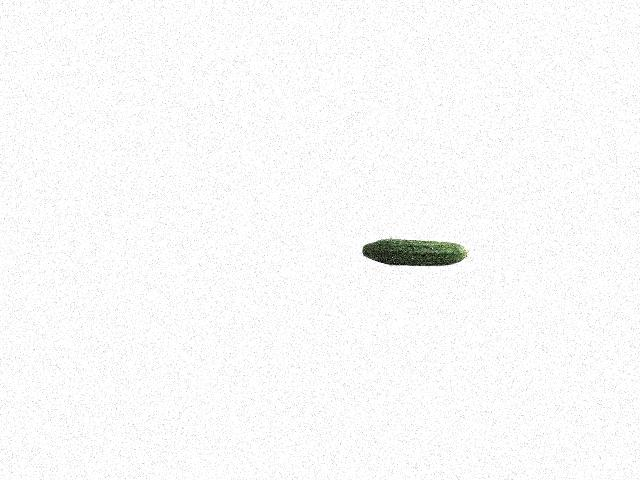cucumber: (361, 239, 467, 265)
